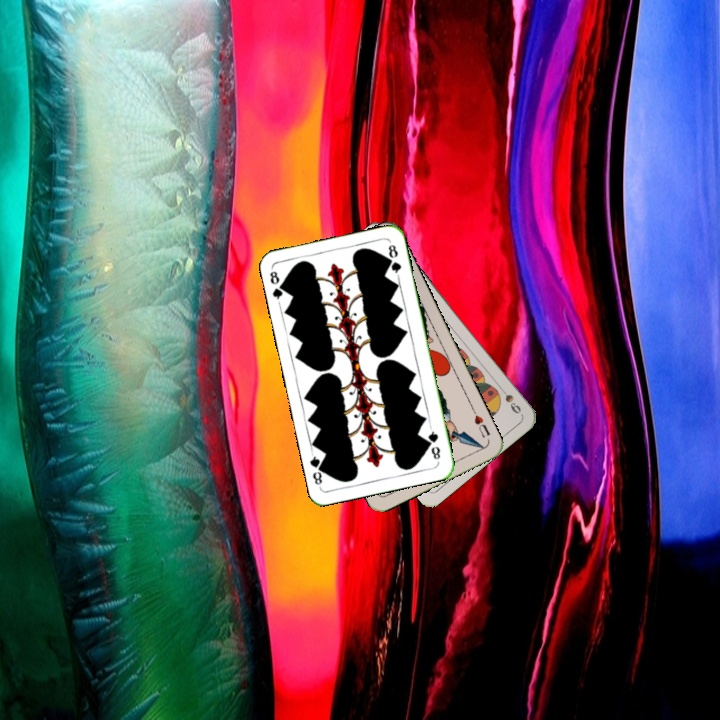G8: (266, 265, 289, 306), (424, 424, 443, 462)
HU: (468, 405, 493, 441)
S9: (494, 382, 524, 417)
